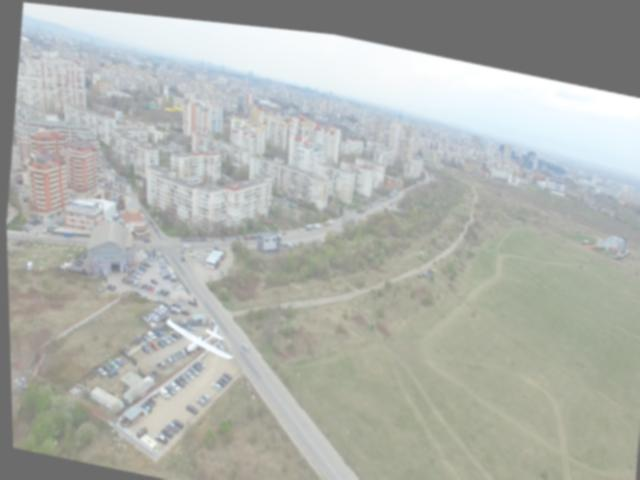plane: (161, 309, 234, 360)
